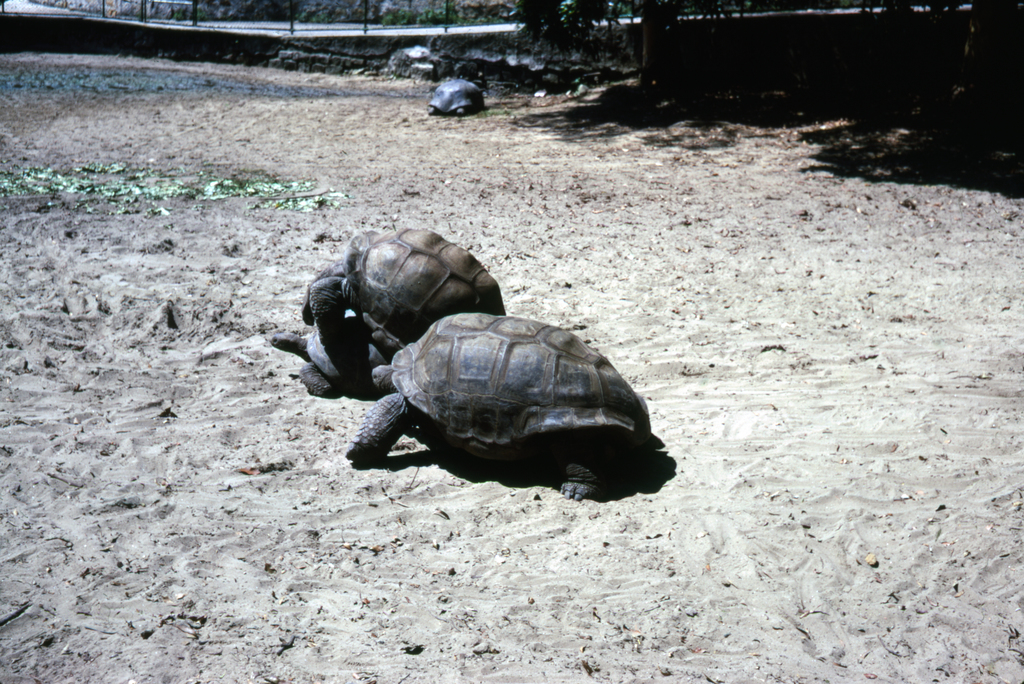Sea turtles: (338, 305, 662, 504), (300, 223, 507, 366), (261, 307, 407, 399), (424, 73, 482, 119)
